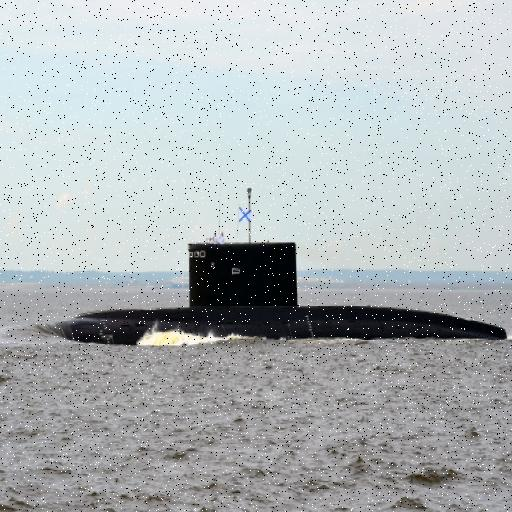submarine: (11, 233, 510, 347)
